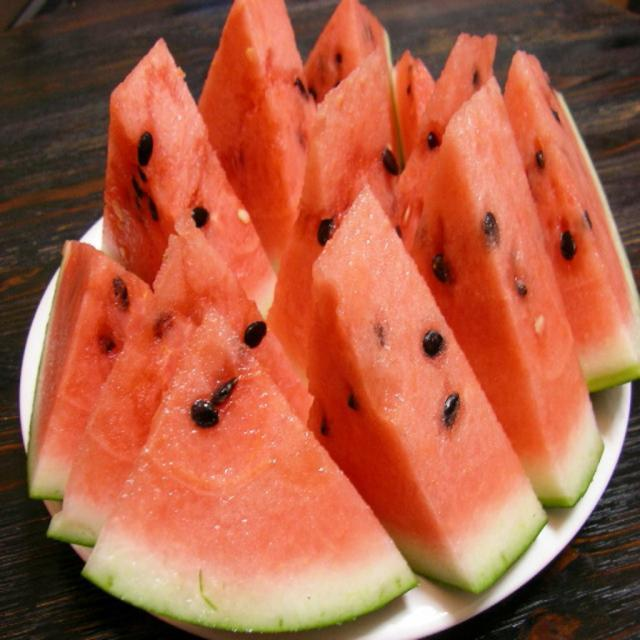Watermelon: (26, 0, 639, 633)
